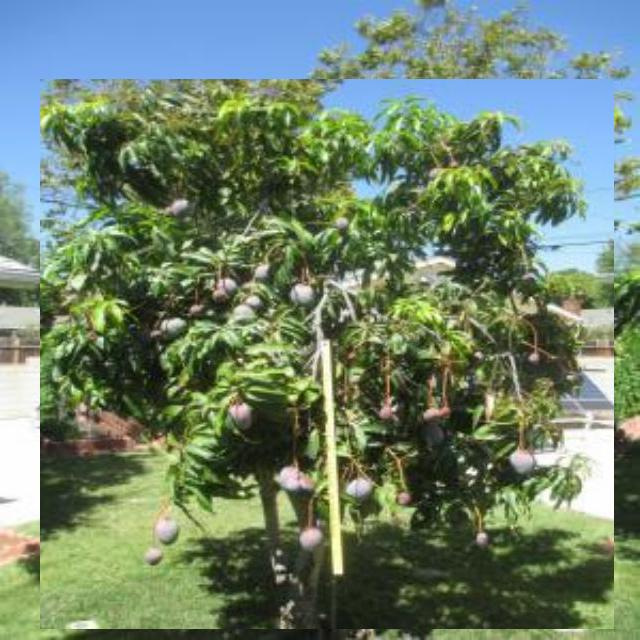tree: (40, 79, 614, 629)
